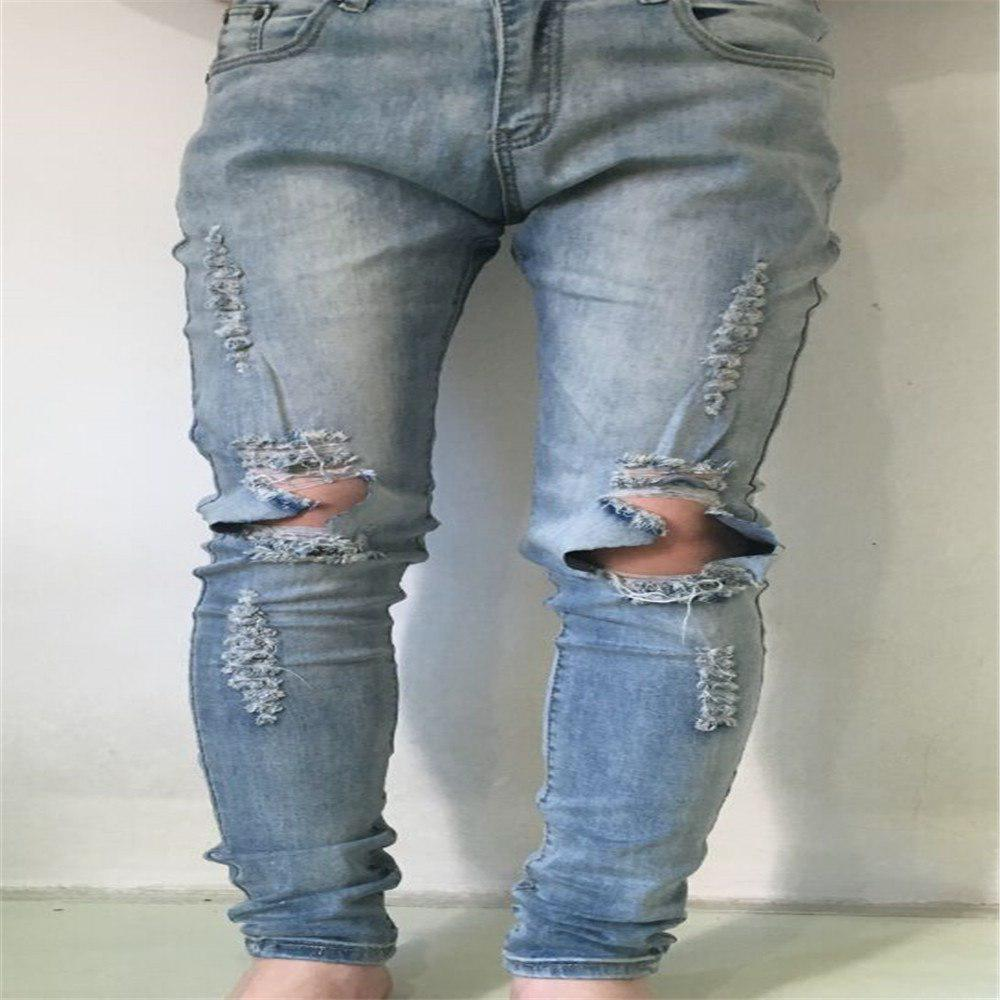jeans: (172, 5, 869, 989)
